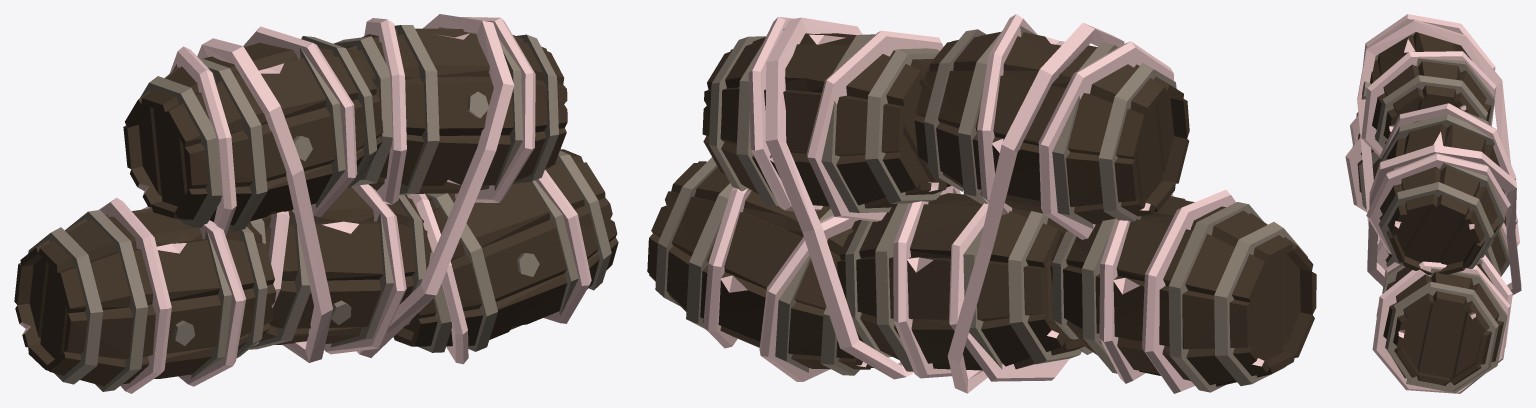
The model's file is SM_Veh_Extra_Barrels_01.glb.
3 views of the same model, side by side, from view 1: azimuth 30°, elevation 25°; view 2: azimuth 150°, elevation 25°; view 3: azimuth 270°, elevation 25° (orthographic). The views are drawn at different scales.
Parts seen in each view (by area): view 1: SM_Veh_Extra_Barrels_01_00; view 2: SM_Veh_Extra_Barrels_01_00; view 3: SM_Veh_Extra_Barrels_01_00.
Part boxes in pixels (x1,y1,x2,y2): SM_Veh_Extra_Barrels_01_00: (14, 14, 618, 393); SM_Veh_Extra_Barrels_01_00: (647, 14, 1316, 393); SM_Veh_Extra_Barrels_01_00: (1345, 14, 1521, 393).
Bounding box in the file's own units: 3.91 × 2.45 × 1.44.
Materials: 1 (1 with a texture image).
